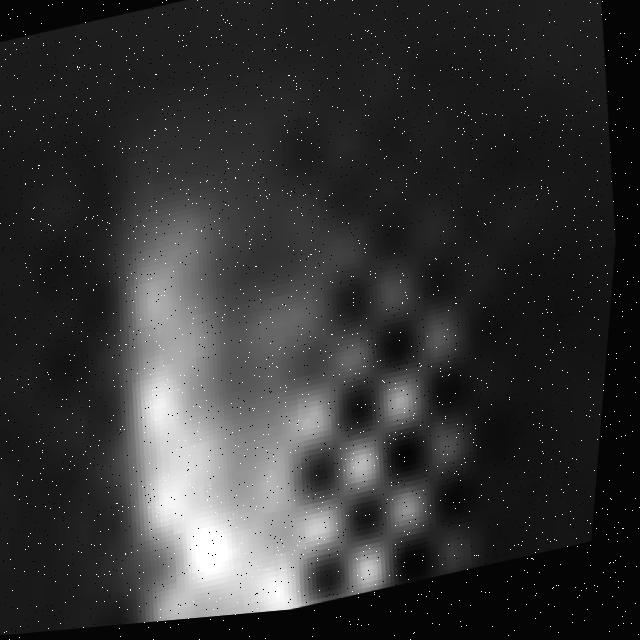person: (47, 37, 517, 635)
